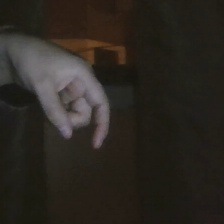Q: (2, 18, 118, 159)
